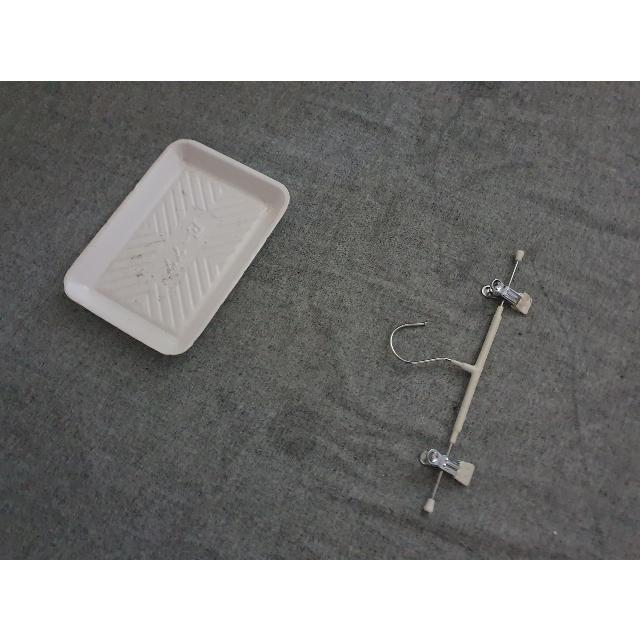Recipiente plastico: (65, 140, 289, 355)
